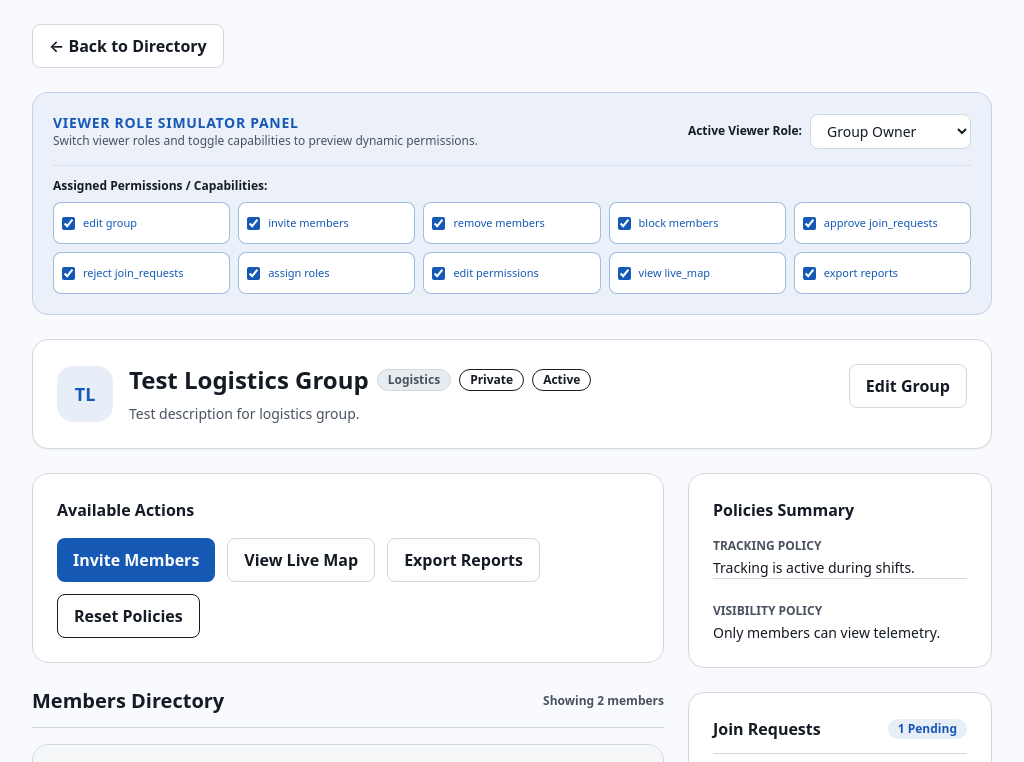
Test case: GroupDetailsPage › requires confirmation workflow for destructive Owner actions
# Find and click Reset Policies button (Owner only)
Click the button with aria-label "Reset group policies" at (128, 616), box [57, 594, 200, 638]
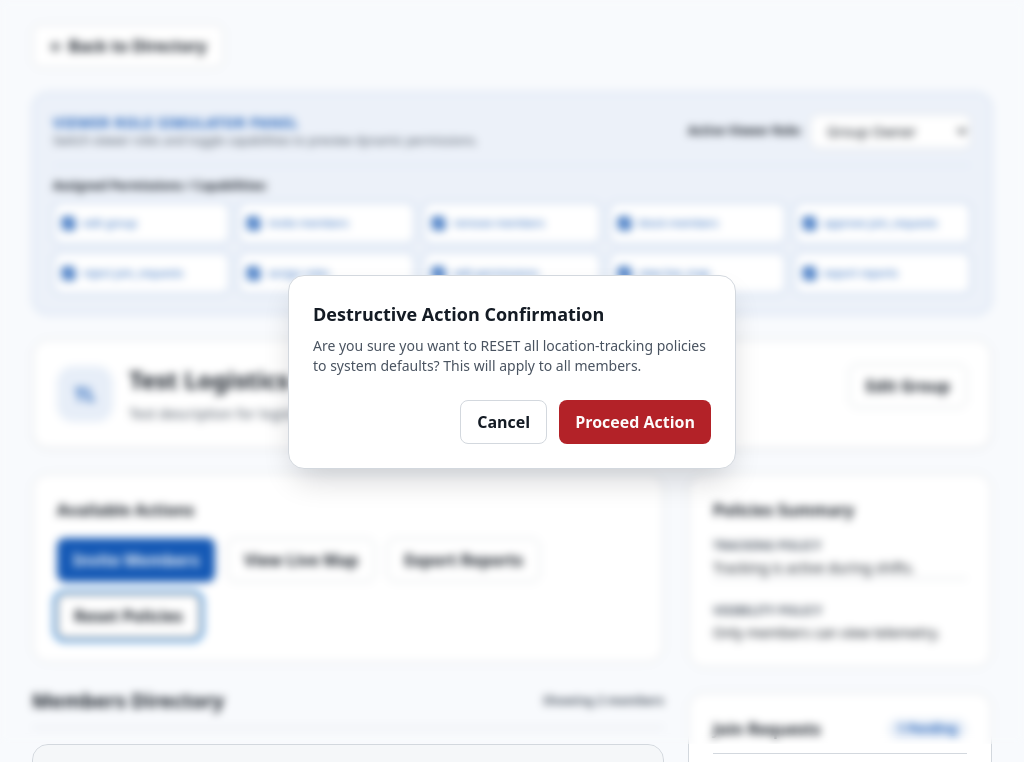
Result: the heading "Destructive Action Confirmation" is shown at [313, 302, 604, 326]
Result: the text "Are you sure you want to RESET all location-tracking policies" is shown at [313, 336, 706, 375]
# Clicking Proceed executes action and dismisses modal
Click the button "Proceed Action" at (635, 422), box [559, 400, 711, 444]
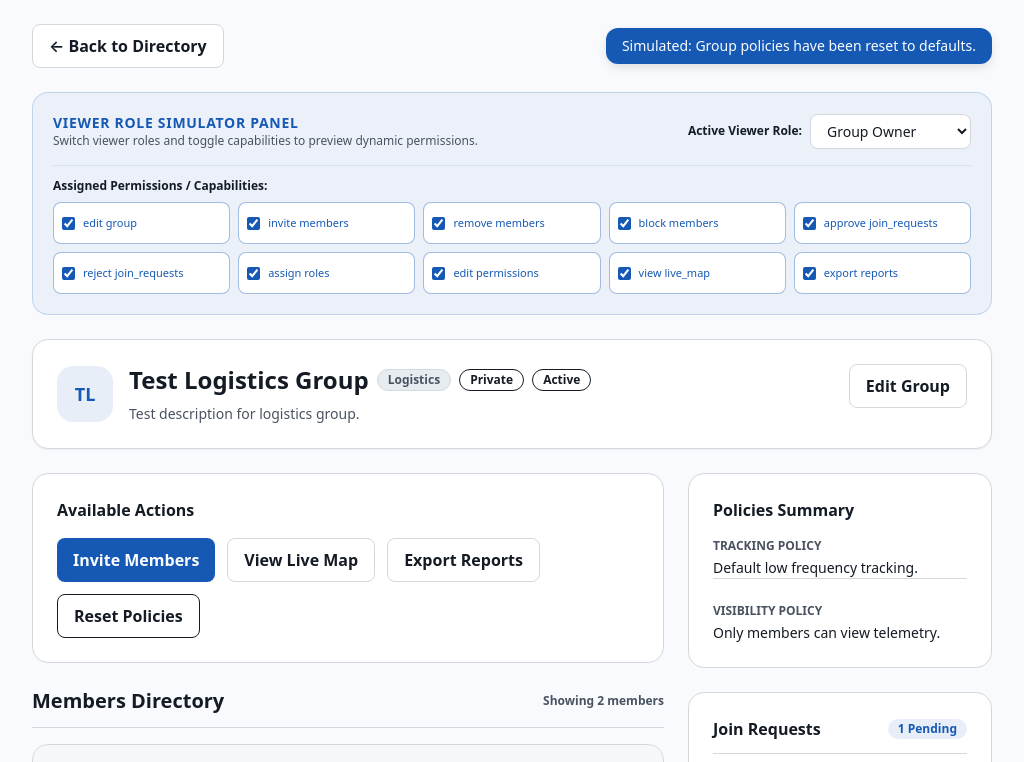
Result: the heading "Destructive Action Confirmation" is gone
